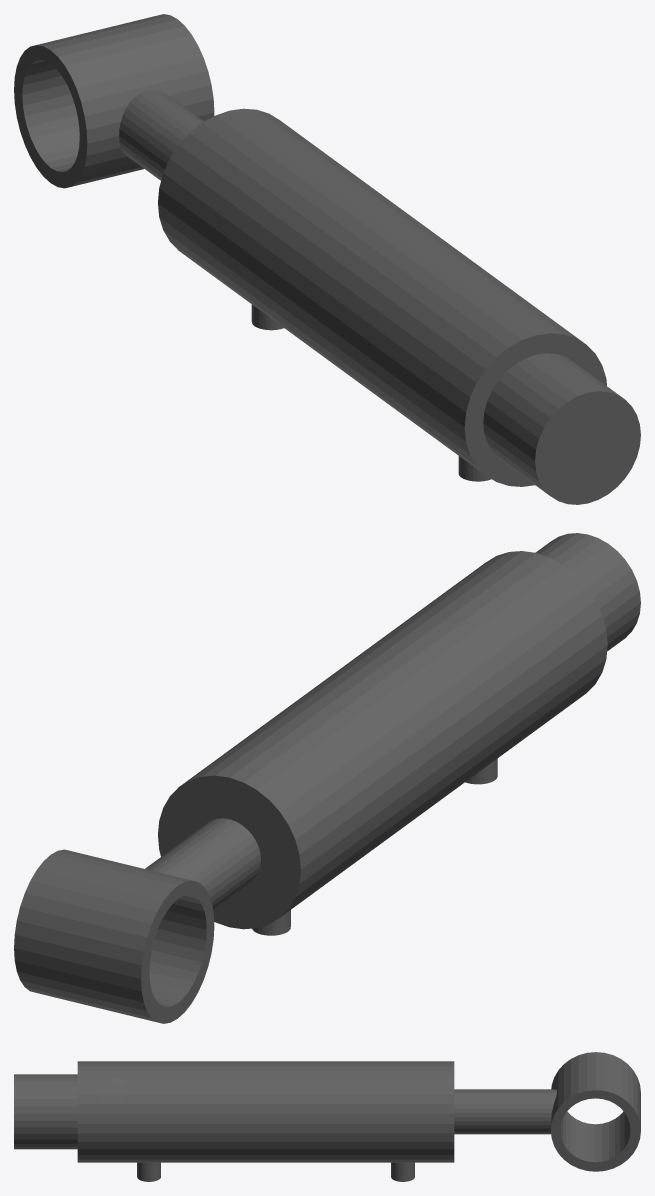
File: Zylinder.+texturblend.obj
3 views of the same model, one above another, from view 1: azimuth 30°, elevation 25°; view 2: azimuth 150°, elevation 25°; view 3: azimuth 270°, elevation 25° (orthographic). The views are drawn at different scales.
Visible parts, largest first — view 1: Zylinder.004; view 2: Zylinder.004; view 3: Zylinder.004.
Part boxes in pixels (bbox=[...]): Zylinder.004: bbox=[14, 14, 640, 504]; Zylinder.004: bbox=[14, 533, 640, 1023]; Zylinder.004: bbox=[14, 1052, 640, 1181].
Size of the model in its own units: 0.6756 by 0.8149 by 4.18.
1 material, 1 textured.
